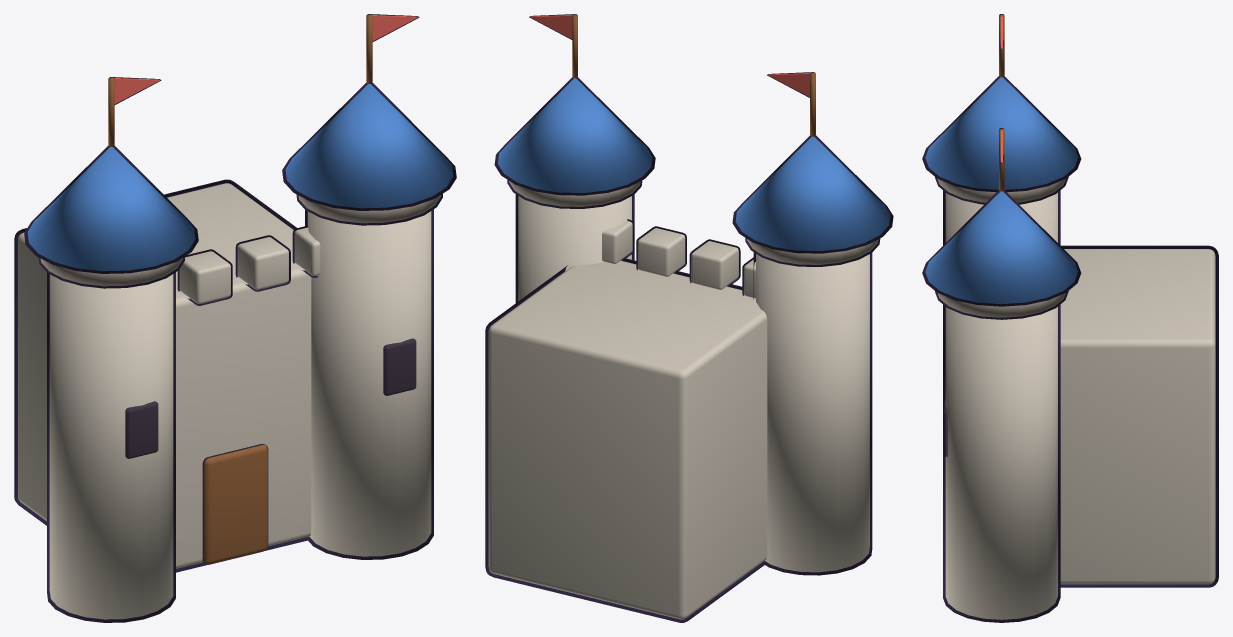
Rendered from castle_2.glb.
The picture shows the model from 3 angles, left to right: view 1: azimuth 30°, elevation 25°; view 2: azimuth 150°, elevation 25°; view 3: azimuth 270°, elevation 25°; orthographic projection. The views are drawn at different scales.
Parts seen in each view (by area): view 1: box, tower, tower.001, spire, spire.001, box.005, box.003, box.002, rim.001, rim, box.006, box.007 (+3 smaller); view 2: box, tower, spire, spire.001, tower.001, box.002, box.003, rim, rim.001, box.004, shape.001, shape; view 3: box, tower.001, spire.001, spire, tower, rim.001, rim.
Boxes of the visible parts, x1,y1,x2,y2 form: box: (14, 179, 311, 572); tower: (47, 272, 175, 622); tower.001: (305, 209, 433, 559); spire: (24, 145, 198, 273); spire.001: (282, 83, 456, 210); box.005: (202, 444, 268, 564); box.003: (235, 235, 290, 291); box.002: (177, 249, 232, 305); rim.001: (296, 194, 442, 225); rim: (38, 257, 184, 288); box.006: (125, 401, 158, 458); box.007: (383, 338, 416, 395); box: (485, 258, 767, 622); tower: (753, 252, 872, 575); spire: (732, 135, 893, 253); spire.001: (494, 77, 655, 195); tower.001: (515, 194, 634, 302); box.002: (689, 239, 740, 289); box.003: (636, 226, 686, 276); rim: (745, 238, 880, 266); rim.001: (507, 180, 642, 208); box.004: (602, 219, 634, 263); shape.001: (529, 14, 576, 39); shape: (767, 72, 814, 97); box: (1060, 245, 1218, 587); tower.001: (943, 304, 1060, 622); spire.001: (922, 190, 1081, 306); spire: (922, 76, 1081, 192); tower: (943, 190, 1060, 245); rim.001: (935, 291, 1068, 319); rim: (935, 177, 1068, 204).
Size of the model in its own units: 3.82 by 4.62 by 2.64.
